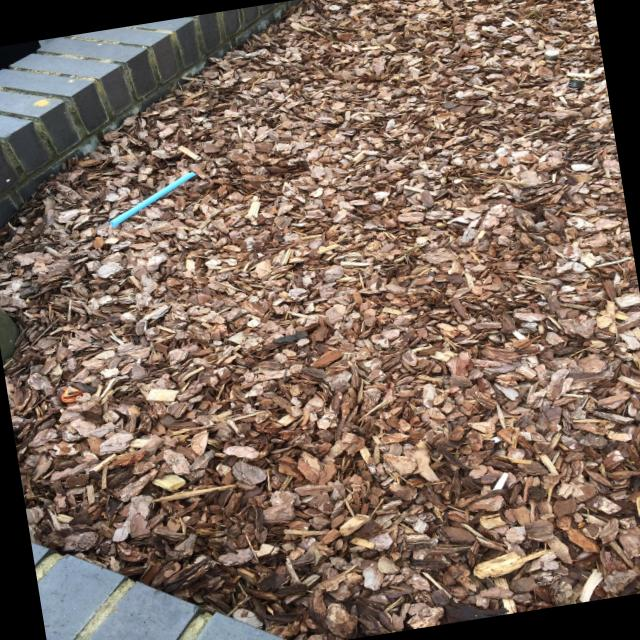Bottle cap: (567, 80, 585, 89), (545, 50, 559, 59)
Straw: (110, 173, 196, 226)
